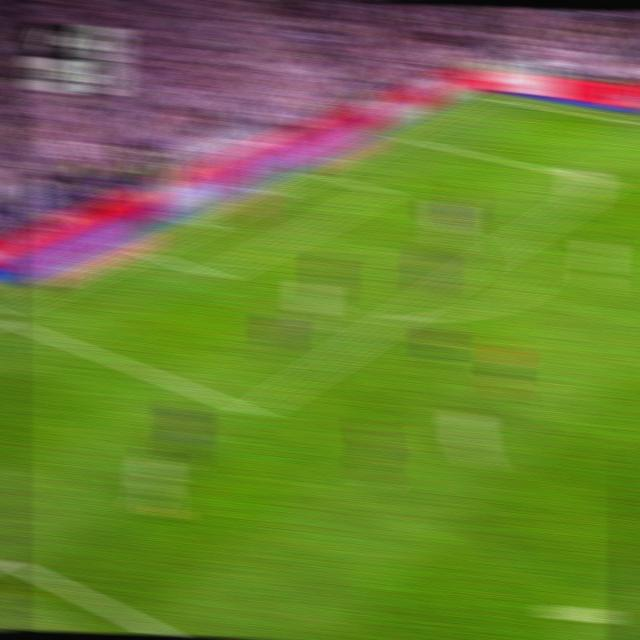bigarea_bottom_inner: (238, 399, 267, 424)
bigarea_top_inner: (594, 173, 617, 190)
bigarea_top_outter: (391, 129, 414, 142)
bottom_arc_area_intersection: (385, 305, 413, 328)
corner: (476, 91, 500, 100)
smallarea_bottom_inner: (203, 264, 228, 287)
smallarea_top_inner: (370, 184, 393, 198)
top_arc_area_intersection: (507, 228, 534, 246)
